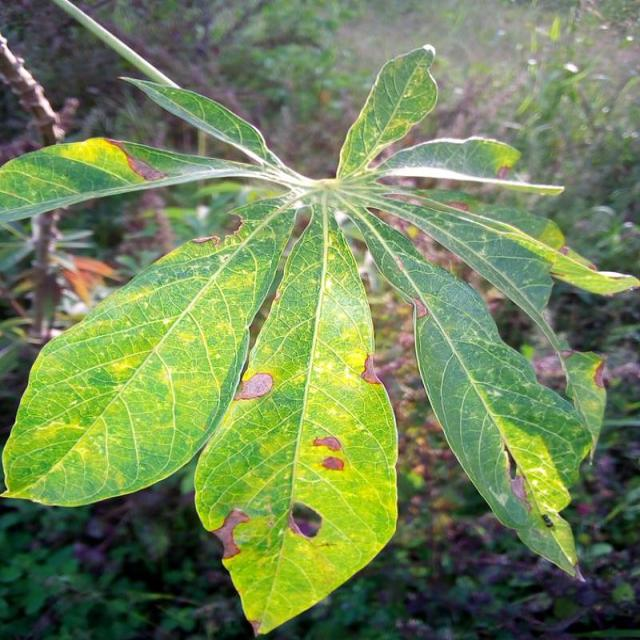cassava leaf: (0, 41, 638, 634), (336, 193, 594, 581), (0, 191, 299, 509), (193, 192, 398, 636)
